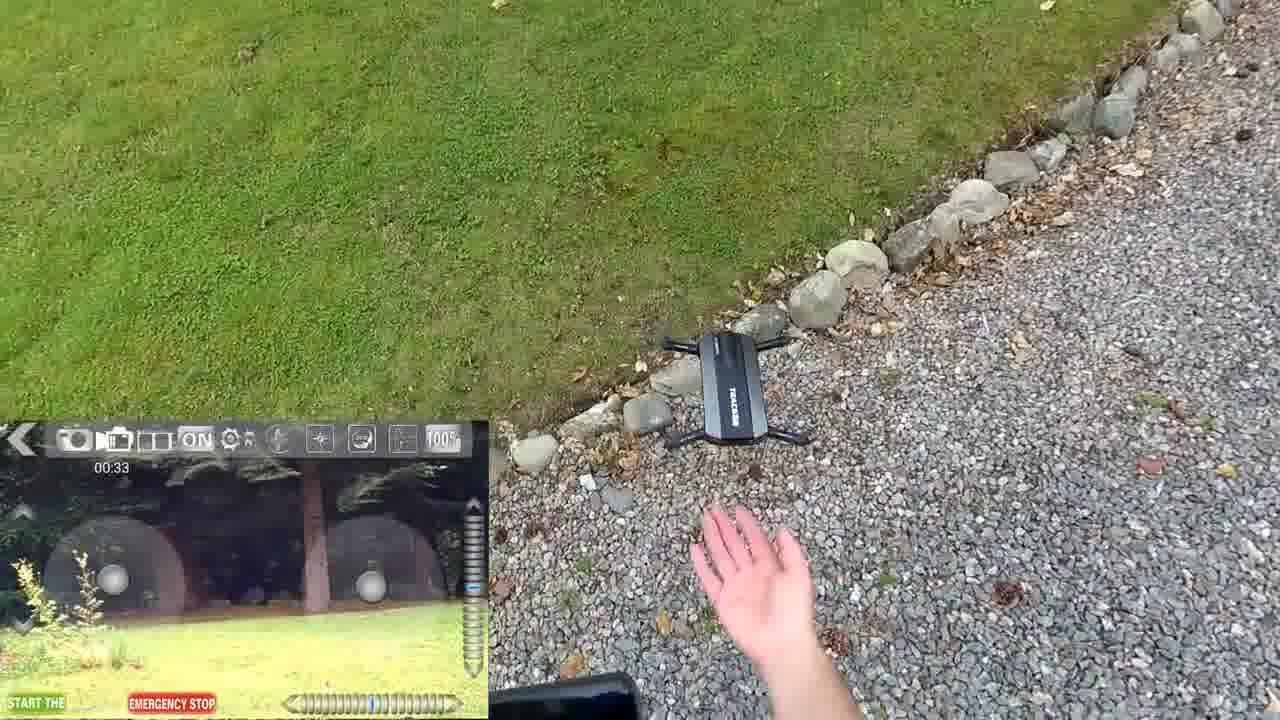drone: (639, 309, 832, 459)
